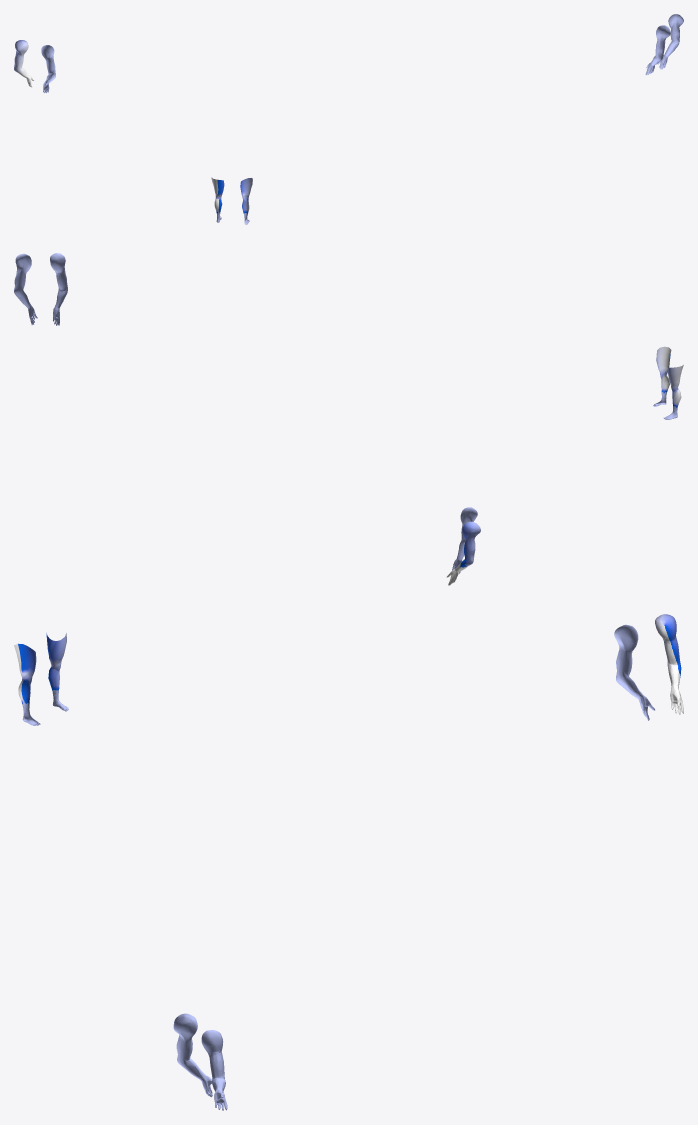
Rendered from extremidades.glb.
3 renders of one model, top to bottom at view 1: azimuth 30°, elevation 25°; view 2: azimuth 150°, elevation 25°; view 3: azimuth 270°, elevation 25°, orthographic. The views are drawn at different scales.
Parts seen in each view (by area): view 1: extremidades_humanoides:Mesh; view 2: extremidades_humanoides:Mesh; view 3: extremidades_humanoides:Mesh.
Part boxes in pixels (box(x1,y1,x2,y2)): extremidades_humanoides:Mesh: box(14, 14, 683, 224); extremidades_humanoides:Mesh: box(14, 253, 683, 585); extremidades_humanoides:Mesh: box(14, 614, 683, 1110).
Size of the model in its own units: 5.37 by 0.5263 by 3.57.
Materials: 1 (1 with a texture image).
